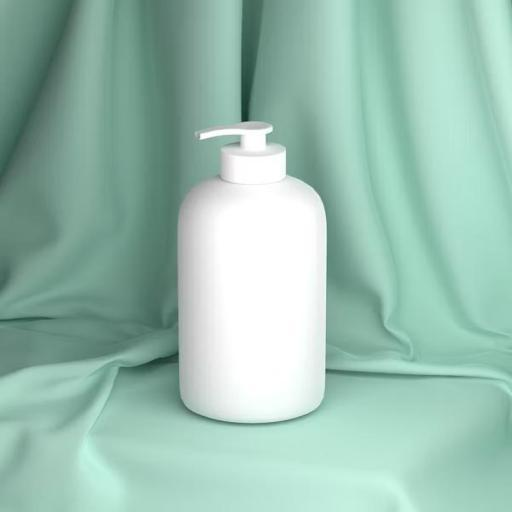bottle: (160, 108, 340, 430)
